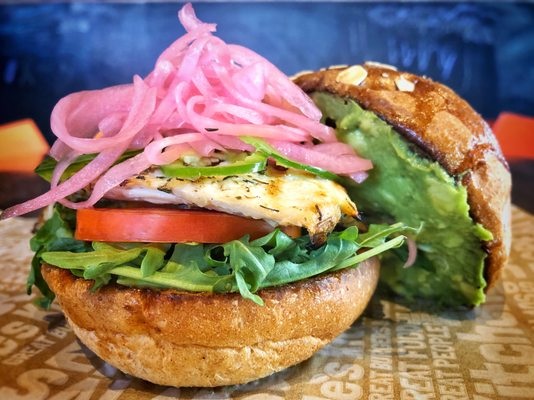soup: (13, 4, 397, 394), (289, 62, 513, 317)
